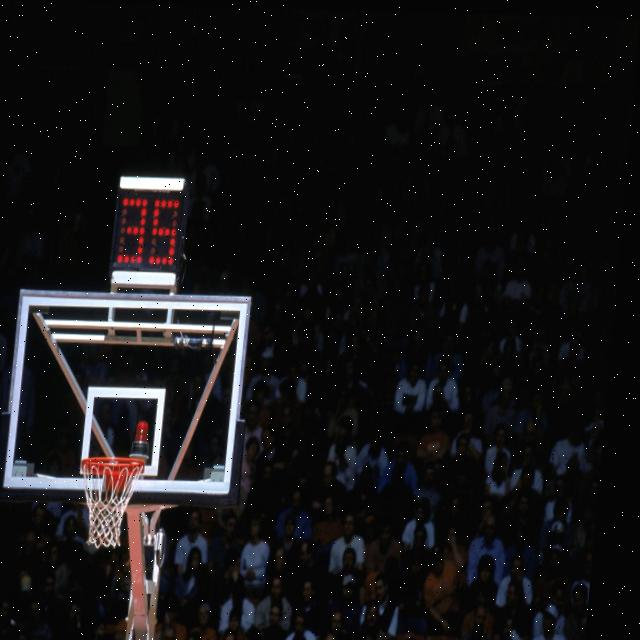hoop: (74, 456, 146, 549)
